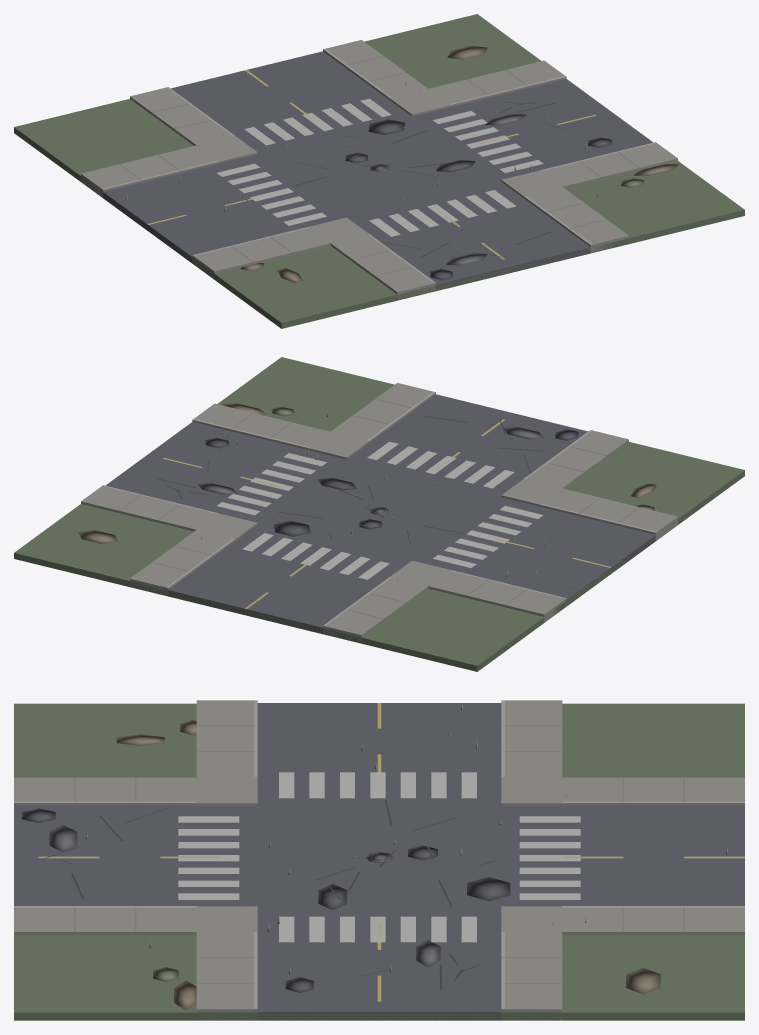
The model's file is rua_cruzamento.glb.
The picture shows the model from 3 angles, top to bottom: view 1: azimuth 30°, elevation 25°; view 2: azimuth 150°, elevation 25°; view 3: azimuth 270°, elevation 25°; orthographic projection. The views are drawn at different scales.
Visible parts, largest first — view 1: rua_cruzamento; view 2: rua_cruzamento; view 3: rua_cruzamento.
Part boxes in pixels (box(x1,y1,x2,y2)): rua_cruzamento: box(14, 14, 744, 328); rua_cruzamento: box(14, 357, 744, 671); rua_cruzamento: box(14, 700, 744, 1020).
Size of the model in its own units: 24 by 0.6751 by 24.
